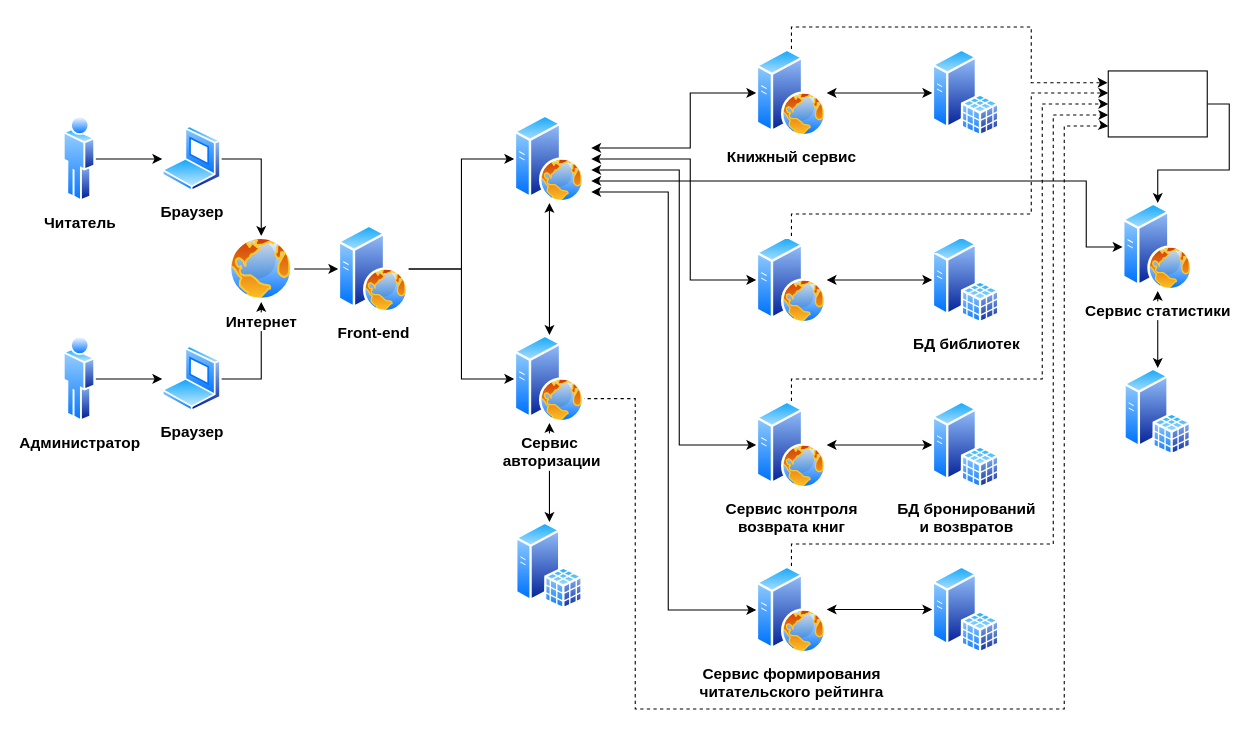
The diagram is 1257 pixels wide and 737 high, and some of its shapes have lost their labels. Here are the shapes that lost their labels. From the top down, the box of each, then its label:
(932, 48, 999, 136): БД книг
(1107, 70, 1207, 137): Очередь
(514, 114, 584, 202): Сервис маршрутизации запросов
(756, 235, 826, 323): Библиотечный сервис
(1123, 367, 1191, 455): БД статистики
(515, 521, 583, 609): БД пользователей
(932, 565, 999, 653): БД рейтингов
